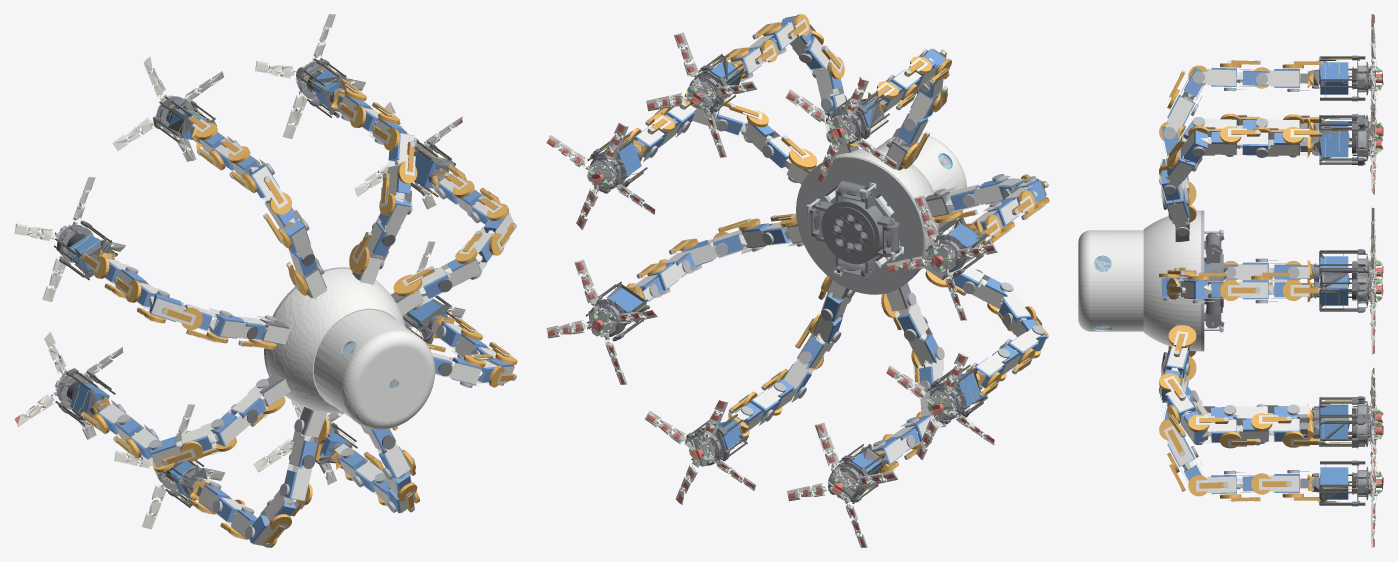
Rendered from cephalo2_all_stand.glb.
3 renders of one model, left to right at view 1: azimuth 30°, elevation 25°; view 2: azimuth 150°, elevation 25°; view 3: azimuth 270°, elevation 25°, orthographic. The views are drawn at different scales.
Visible parts, largest first — view 1: arms and hands|c0, turret shell|shell, arms and hands|c7, arms and hands|c22, arms and hands|c3, arms and hands|c4, arms and hands|c13, arms and hands|c12, arms and hands|c6, arms and hands|c11, arms and hands|c2, arms and hands|c21 (+5 smaller); view 2: arms and hands|c0, arms and hands|c22, arms and hands|c7, body|plate, arms and hands|c3, arms and hands|c17, arms and hands|c6, arms and hands|c16, belly rotor|hub, arms and hands|c4, turret shell|shell, arms and hands|c12 (+10 smaller); view 3: arms and hands|c0, turret shell|shell, arms and hands|c7, arms and hands|c3, arms and hands|c12, arms and hands|c4, arms and hands|c11, arms and hands|c13, arms and hands|c6, arms and hands|c22, arms and hands|c21, arms and hands|c20 (+13 smaller).
Boxes of the visible parts, x1,y1,x2,y2 form: arms and hands|c0: [87, 84, 514, 546]; turret shell|shell: [266, 268, 435, 429]; arms and hands|c7: [98, 95, 513, 543]; arms and hands|c22: [14, 14, 465, 529]; arms and hands|c3: [93, 89, 517, 546]; arms and hands|c4: [81, 79, 515, 545]; arms and hands|c13: [56, 59, 455, 507]; arms and hands|c12: [69, 70, 447, 500]; arms and hands|c6: [116, 114, 504, 539]; arms and hands|c11: [54, 58, 455, 507]; arms and hands|c2: [94, 92, 517, 547]; arms and hands|c21: [60, 64, 432, 490]; arms and hands|c0: [623, 16, 1046, 471]; arms and hands|c22: [546, 32, 997, 547]; arms and hands|c7: [633, 16, 1046, 465]; body|plate: [796, 156, 925, 294]; arms and hands|c3: [626, 14, 1048, 472]; arms and hands|c17: [546, 35, 994, 546]; arms and hands|c6: [648, 48, 1044, 447]; arms and hands|c16: [585, 78, 958, 502]; belly rotor|hub: [815, 184, 894, 274]; arms and hands|c4: [623, 22, 1048, 477]; turret shell|shell: [818, 133, 966, 280]; arms and hands|c12: [607, 61, 980, 478]; arms and hands|c0: [1160, 61, 1309, 500]; turret shell|shell: [1078, 210, 1200, 351]; arms and hands|c7: [1161, 67, 1299, 494]; arms and hands|c3: [1159, 63, 1303, 498]; arms and hands|c12: [1320, 62, 1348, 499]; arms and hands|c4: [1167, 60, 1321, 501]; arms and hands|c11: [1320, 56, 1365, 505]; arms and hands|c13: [1319, 55, 1370, 506]; arms and hands|c6: [1163, 71, 1299, 474]; arms and hands|c22: [1369, 14, 1376, 547]; arms and hands|c21: [1357, 60, 1368, 501]; arms and hands|c20: [1323, 58, 1376, 502].
Size of the model in its own units: 0.883 by 0.883 by 0.5422.
